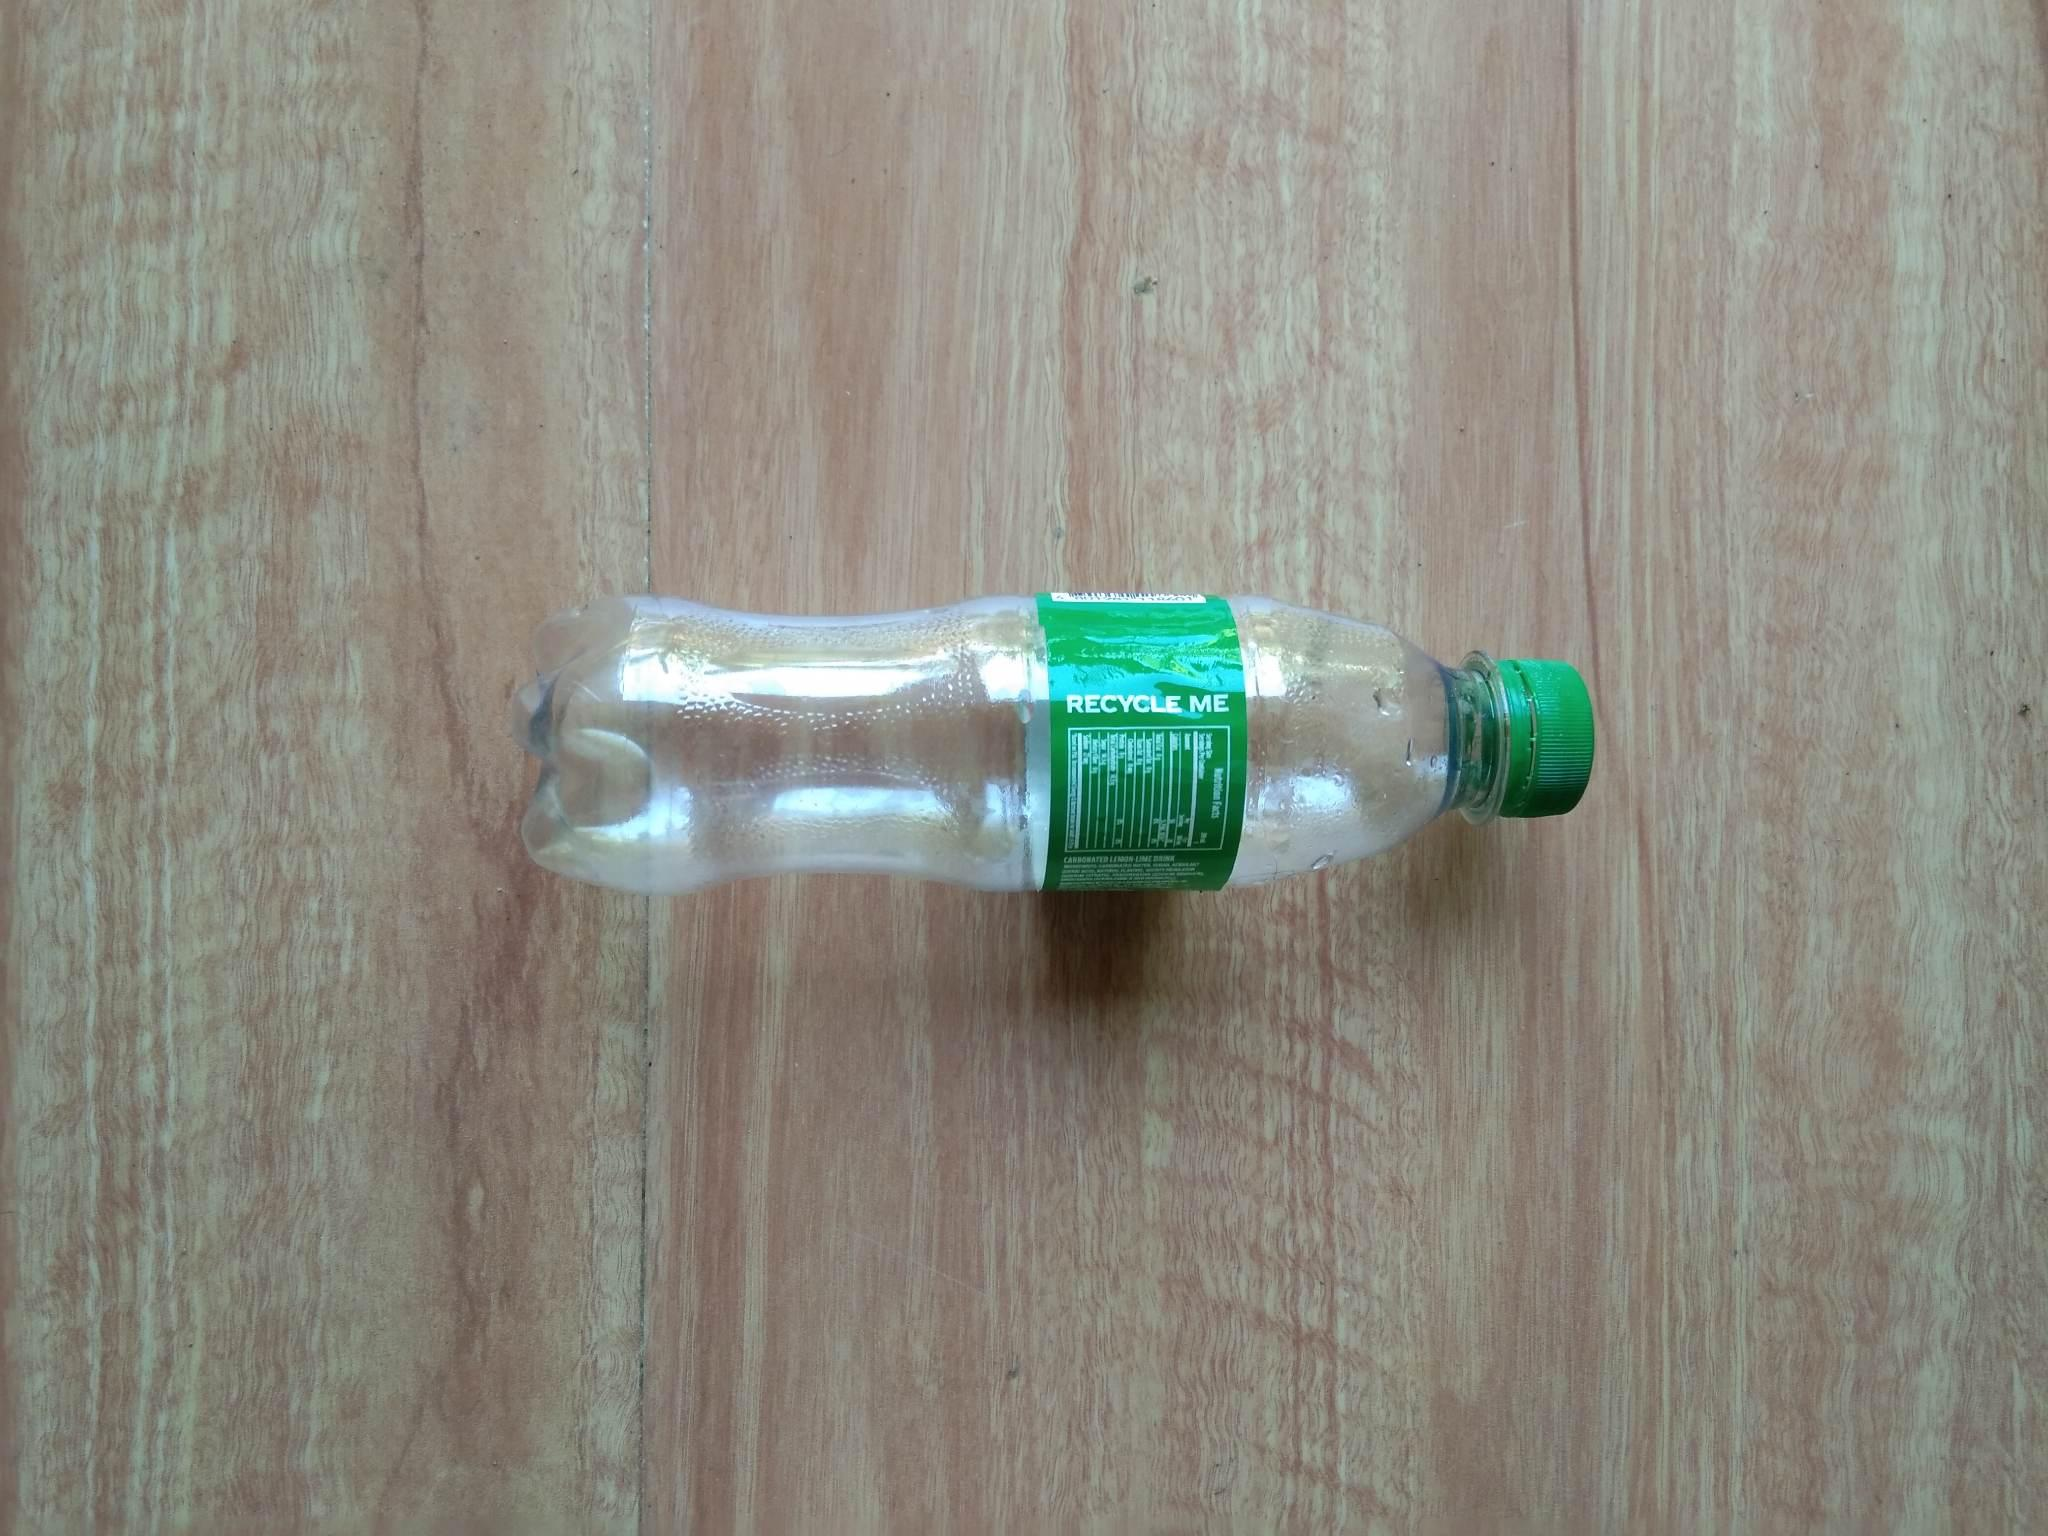plastic: (366, 495, 1766, 1081)
